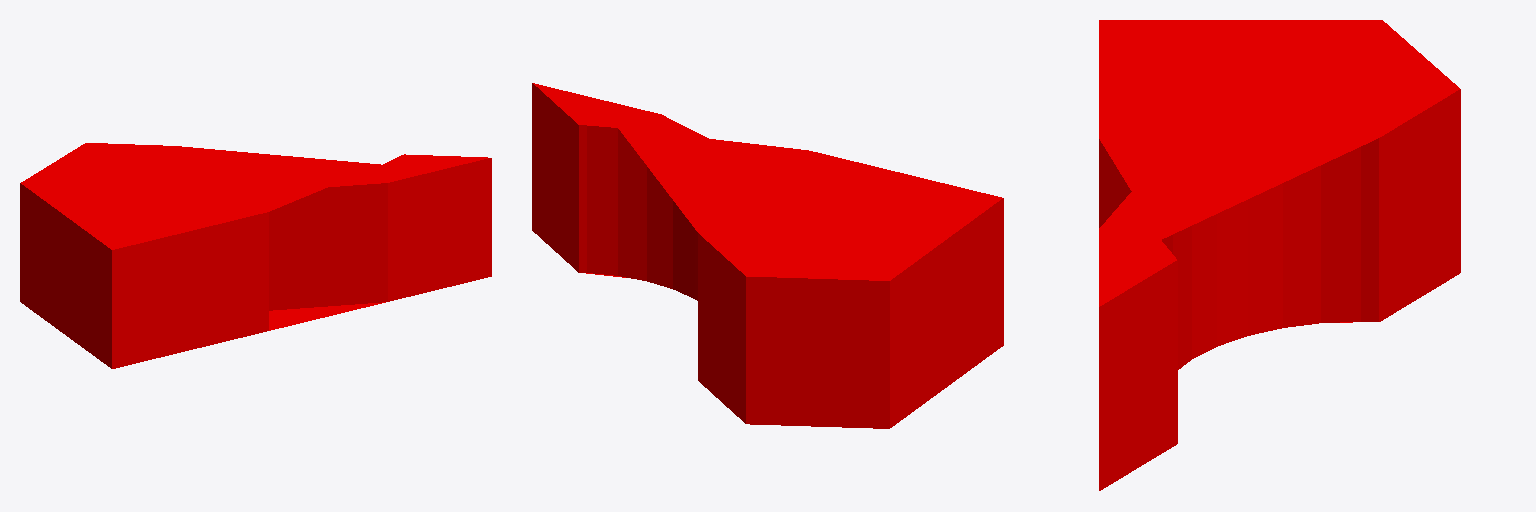
URDF robot description (irregular-object):
<?xml version="1.0"?>
<robot name="irregular-object">

  <link name="base_link">
    <visual>
      <geometry>
        <mesh filename="package://asset/real-world/irregular-object/irregular-object.obj" scale="1 1 1"/>
      </geometry>
      <material name="color">
        <color rgba="1 0 0 1"/> <!-- Red. a: transparency. -->
      </material>
    </visual>
    <collision>
      <geometry>
        <mesh filename="package://asset/real-world/irregular-object/irregular-object.obj" scale="1 1 1"/>
      </geometry>
    </collision>
    <inertial>
      <mass value="10"/> 
      <origin xyz="0 0 0"/> 
      <inertia ixx="1" iyy="1" izz="1"/> 
    </inertial>

  </link>

</robot>

--- Render facts (derived) ---
Views: 3 orthographic renders of the robot side by side, from view 1: azimuth 30°, elevation 25°; view 2: azimuth 150°, elevation 25°; view 3: azimuth 270°, elevation 25°.
Model irregular-object with 1 links and 0 joints (none), rooted at base_link, posed all joints at 0.
Visible links, largest first — view 1: base_link; view 2: base_link; view 3: base_link.
Boxes of the visible links, x1,y1,x2,y2 form: base_link: (20,143,491,368); base_link: (532,83,1003,428); base_link: (1099,20,1460,490).
Bounding box of the posed robot: 1 × 0.5328 × 0.3 m (x, y, z).
1 mesh visuals loaded from 1 distinct referenced files (1 OBJ).